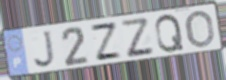2: (60, 25, 91, 68)
J: (32, 28, 57, 69)
O: (185, 9, 217, 49)
Q: (154, 13, 186, 54)
Z: (119, 17, 156, 59), (88, 21, 123, 62)
